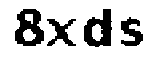8: (11, 5, 45, 48)
d: (82, 4, 114, 53)
s: (120, 15, 143, 50)
x: (47, 16, 76, 50)
